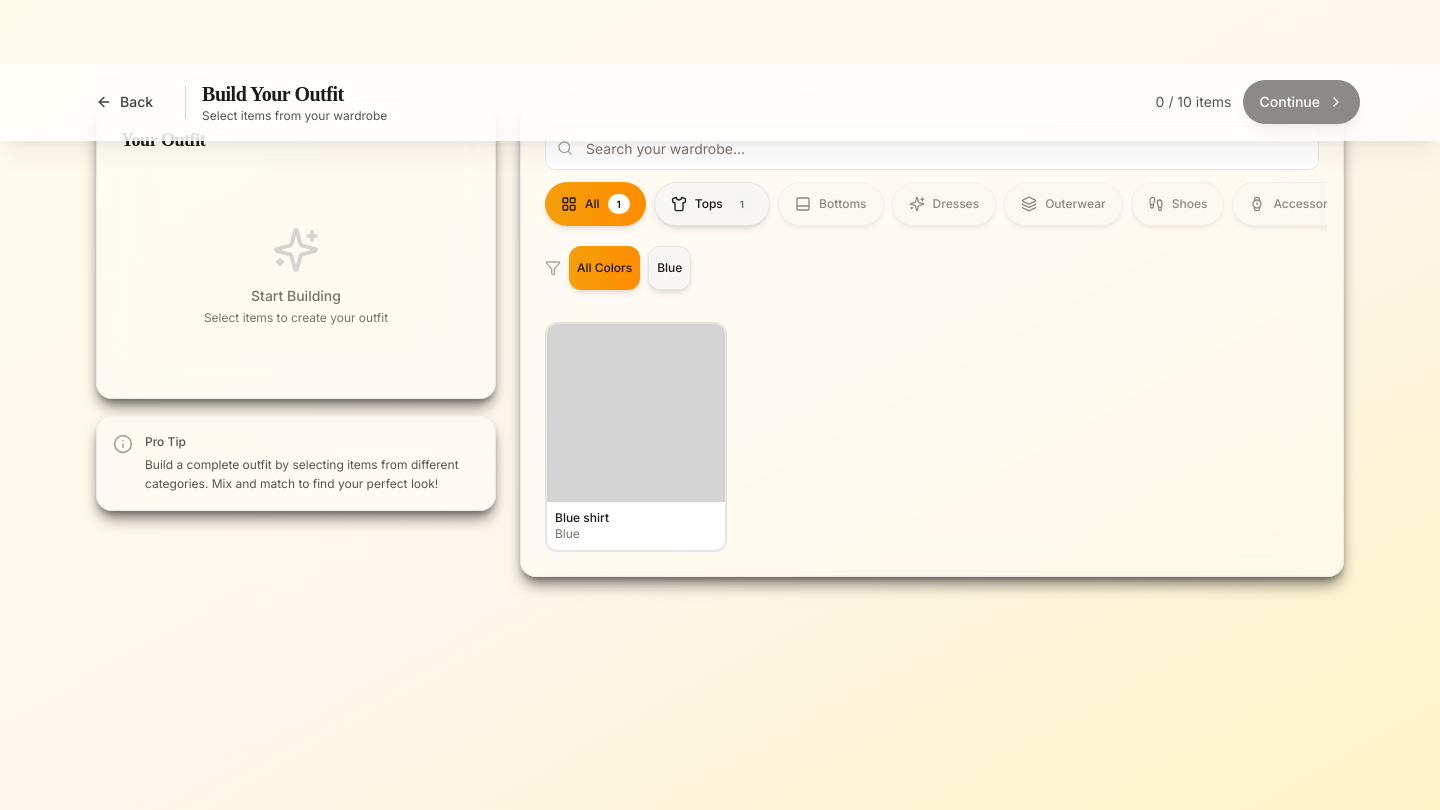
Test: does not sell an upgrade when the balance lookup fails
Click the button "Blue shirt blue". click: (636, 437)
box: [545,322,726,552]
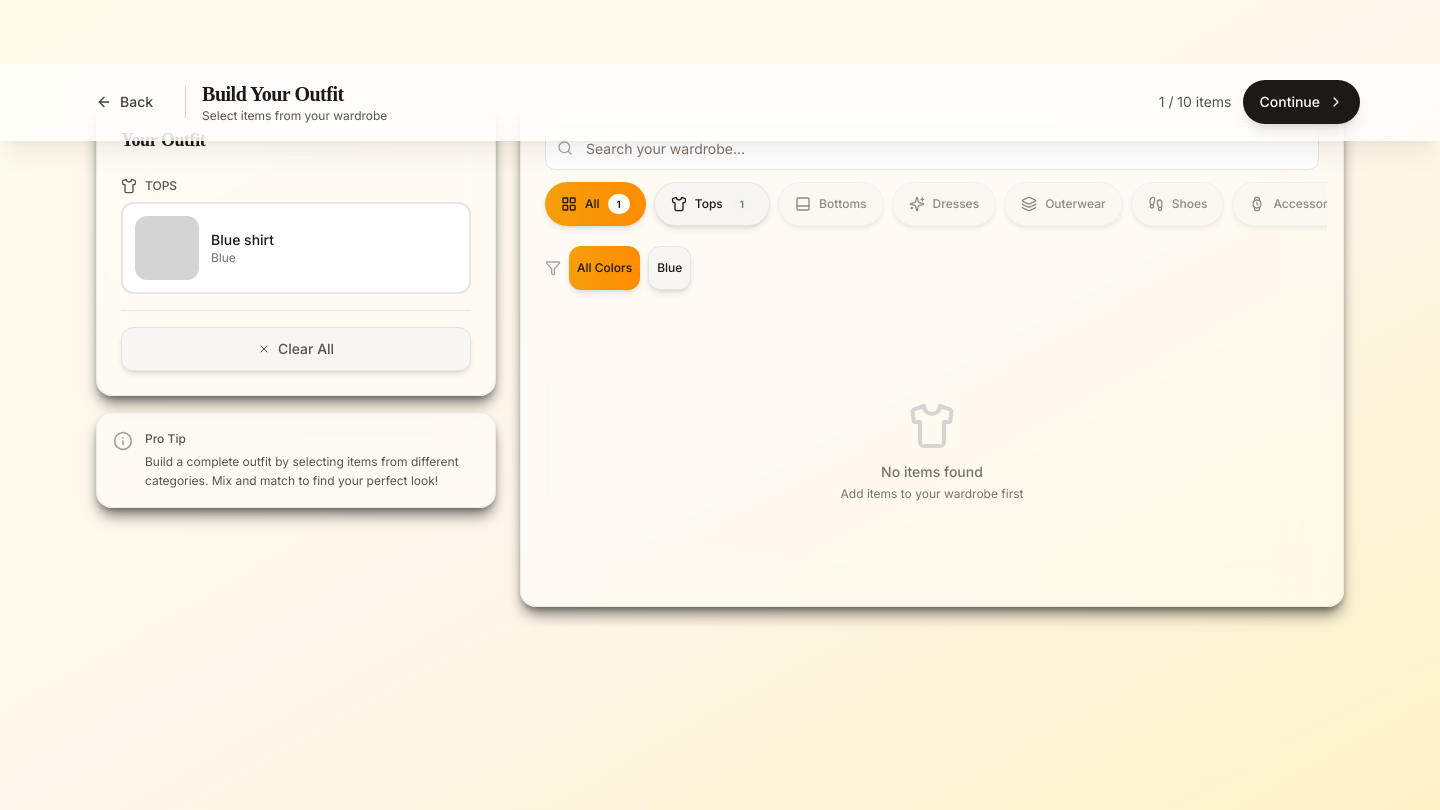
Click the button "Continue". click: (1302, 102)
box: [1244,80,1360,124]
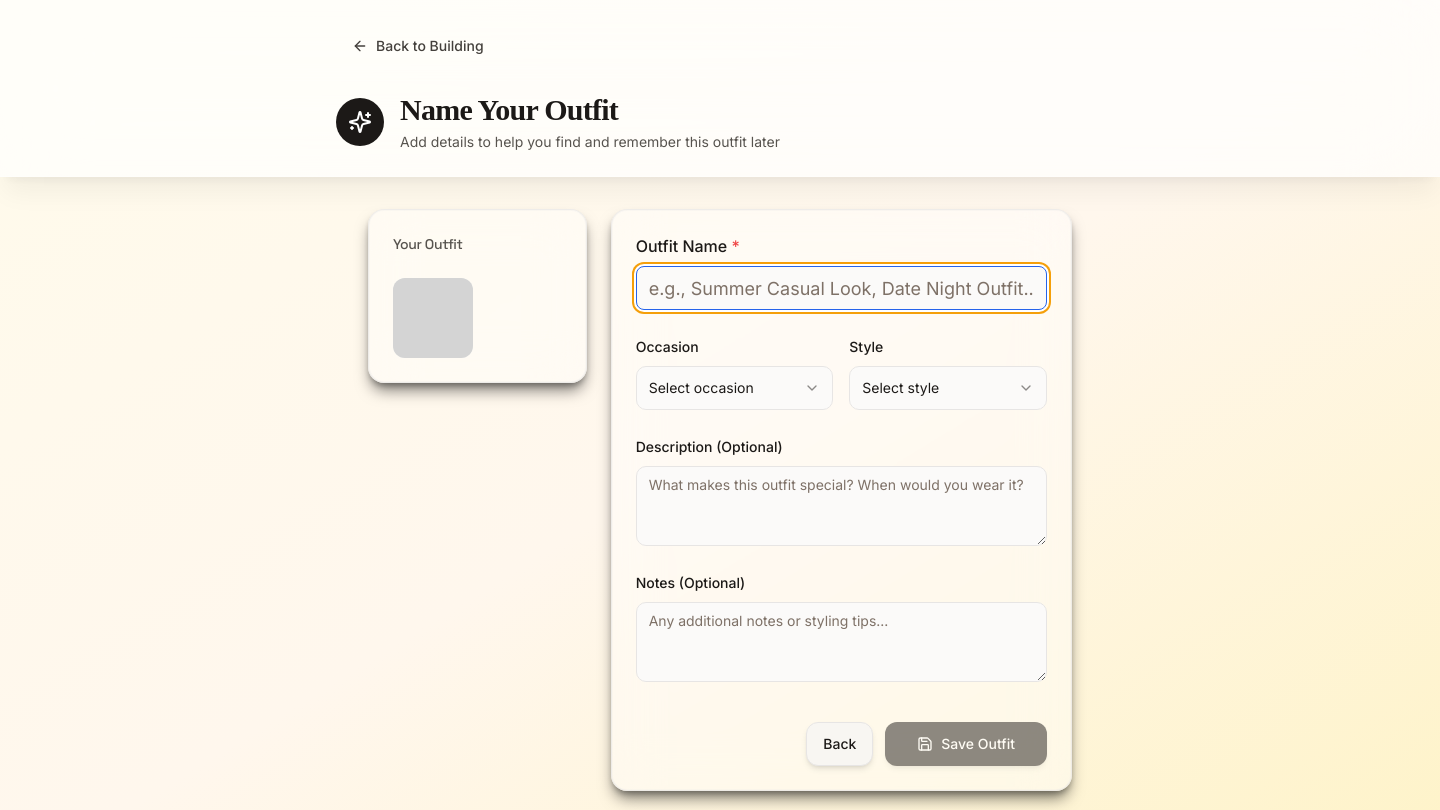
Type "My manual look" into the field labelled "Outfit Name *". click: (841, 288)
box: [636,266,1047,310]
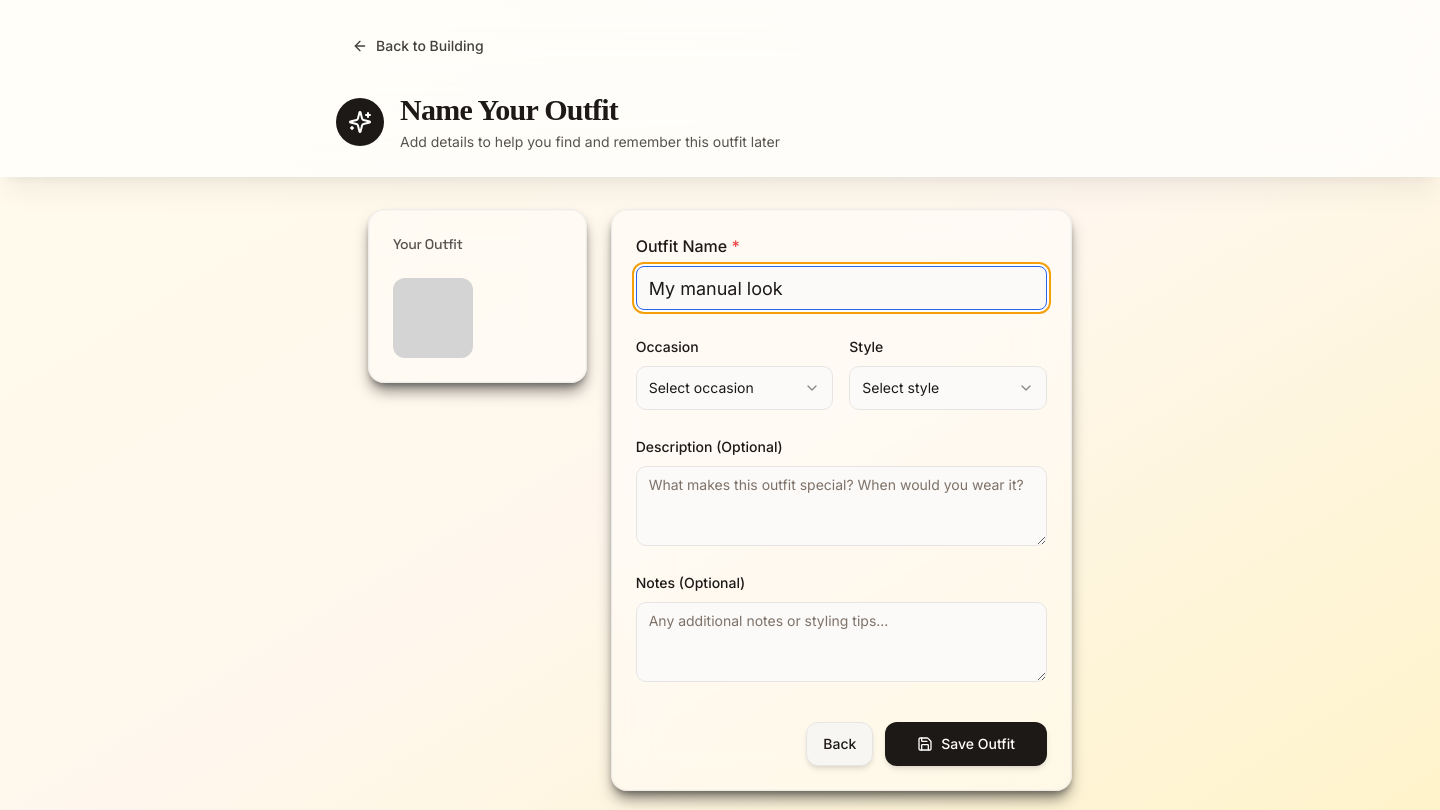
Type "Keep the exact blue shirt" into the text box labelled "Notes (Optional)". click: (841, 642)
box: [636,602,1047,682]
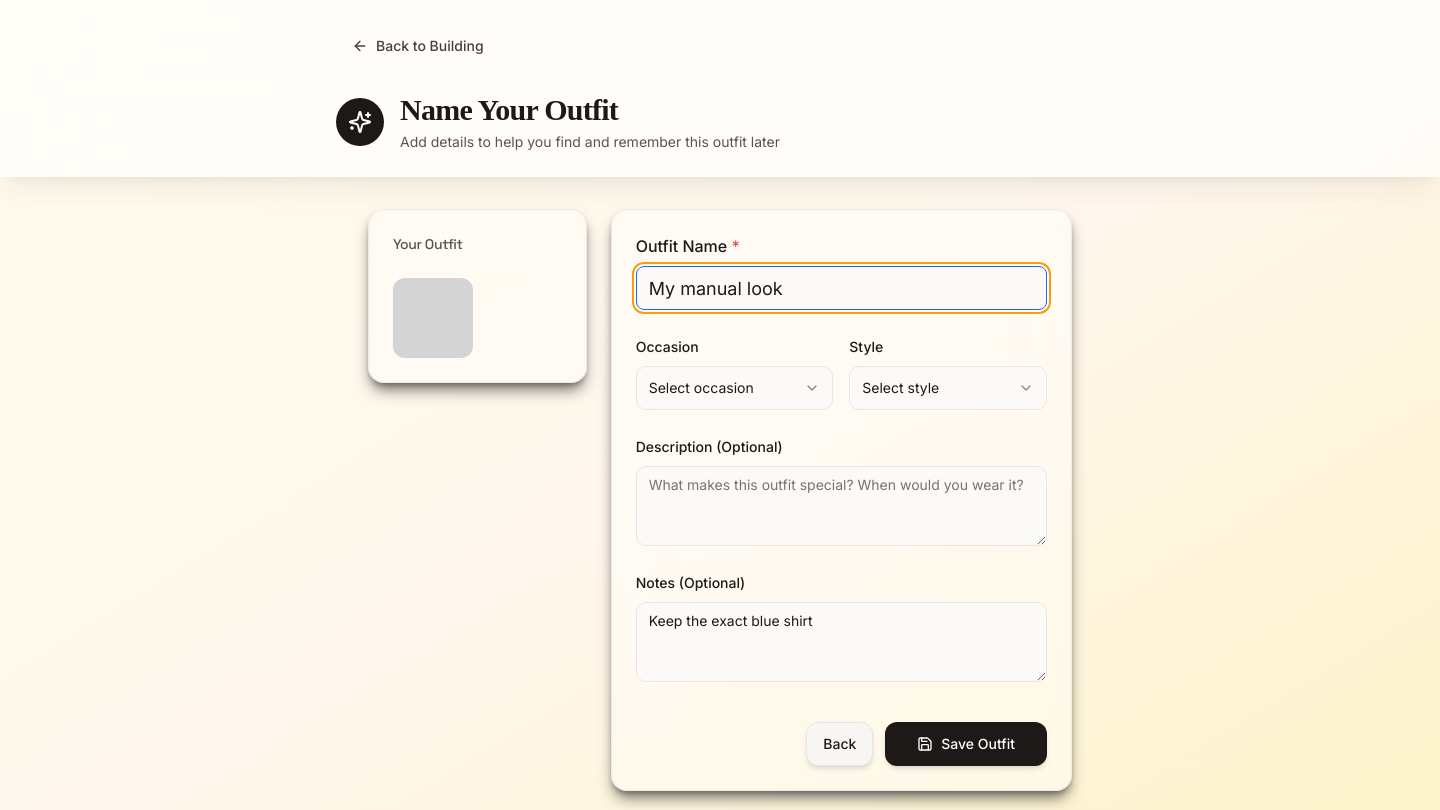
Click the button "Save Outfit". click: (966, 744)
box: [885,722,1047,766]
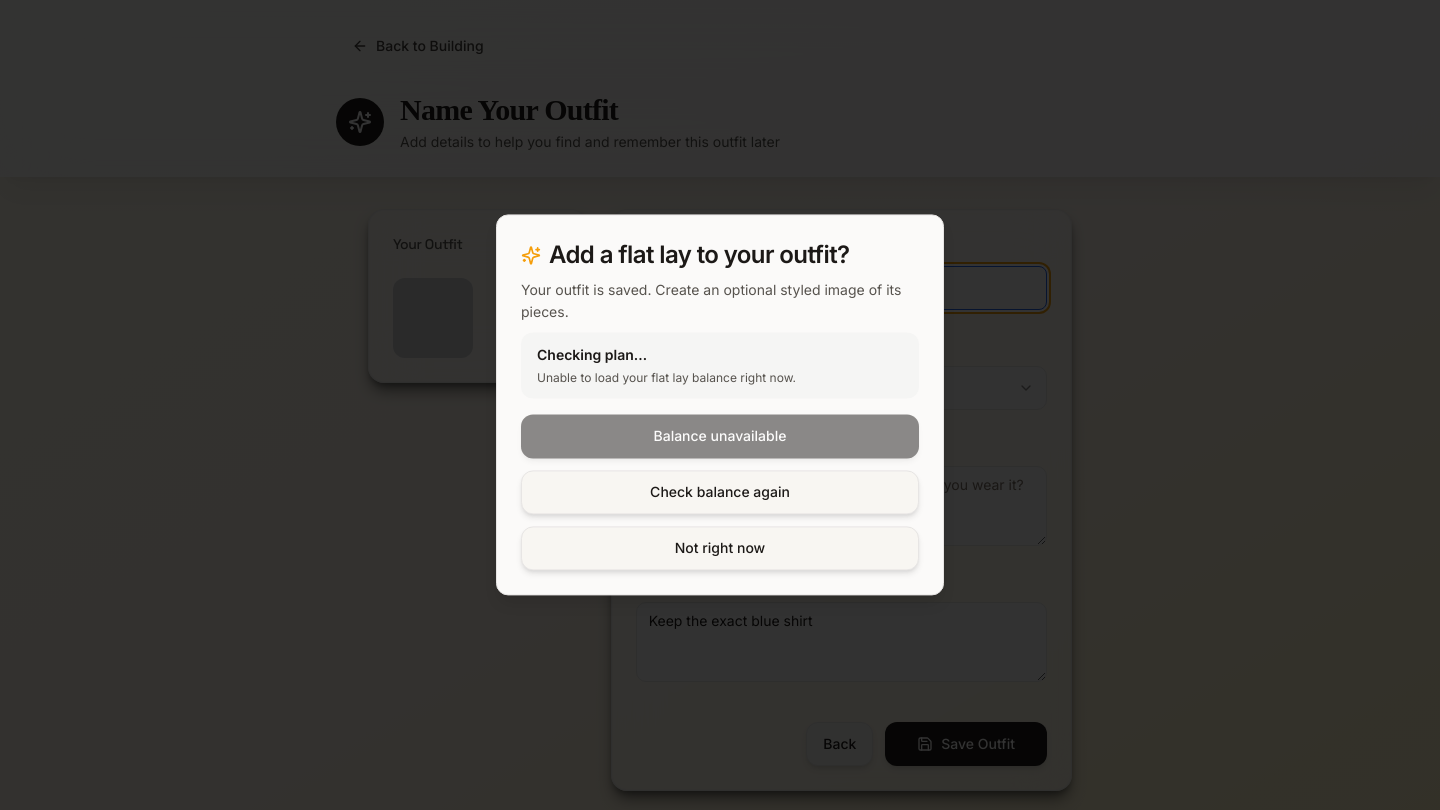
Now the button "Check balance again" is enabled, box [521,471,919,515]
Now the button "Balance unavailable" is disabled, box [521,415,919,459]
